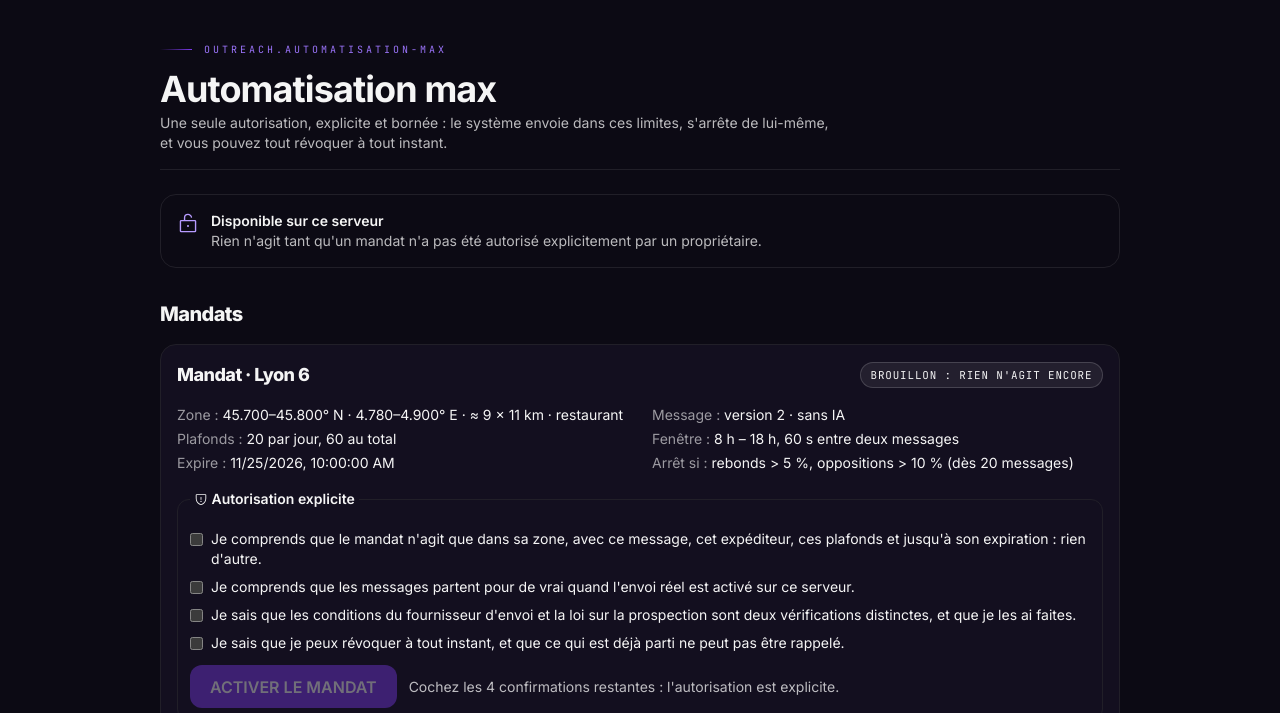
Test: the explicit authorisation › shows the server's refusal sentence
Step 1. Click the 1st checkbox → x=196, y=540, box [190, 533, 203, 546]
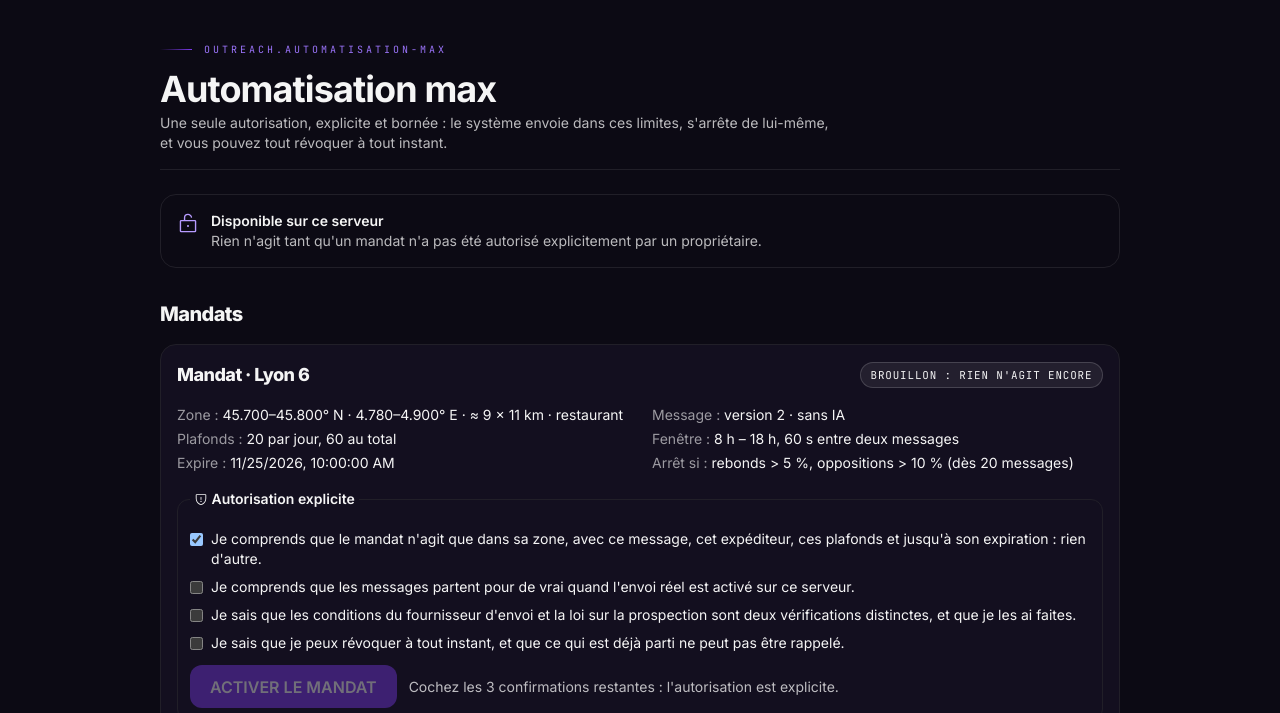
Step 2. Click the 2nd checkbox → x=196, y=588, box [190, 581, 203, 594]
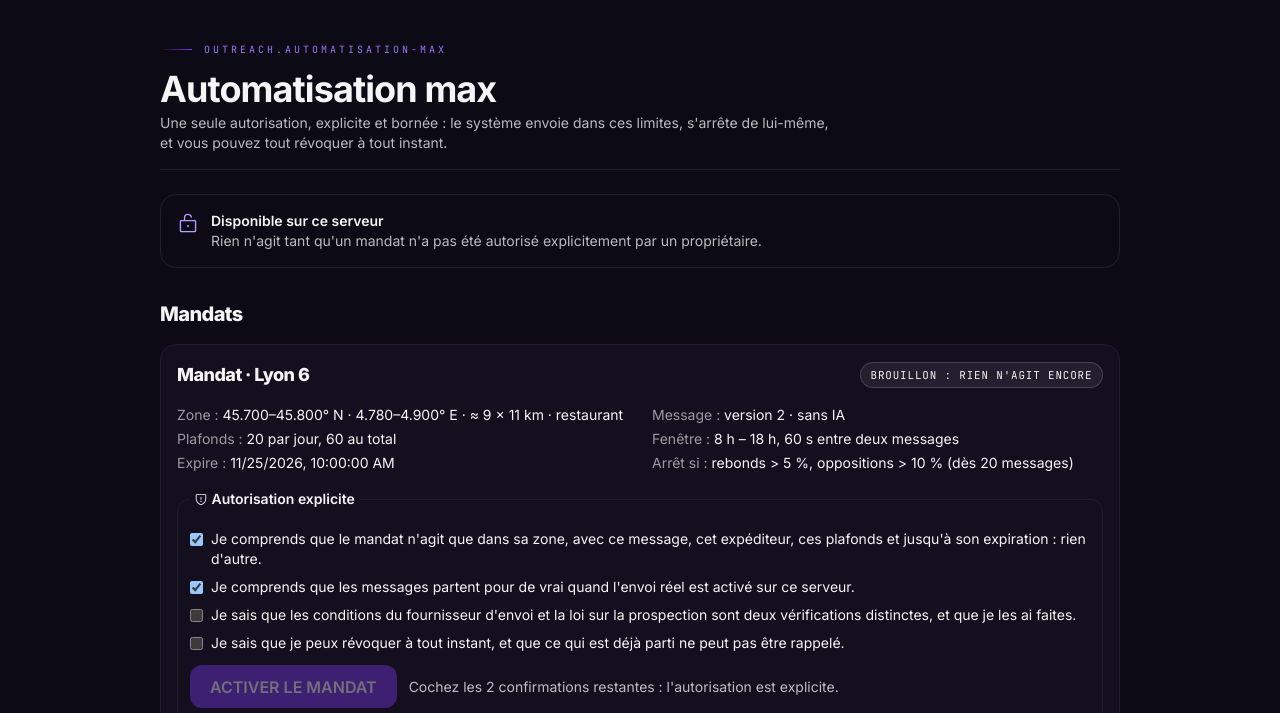
Step 3. Click the 3rd checkbox → x=196, y=616, box [190, 609, 203, 622]
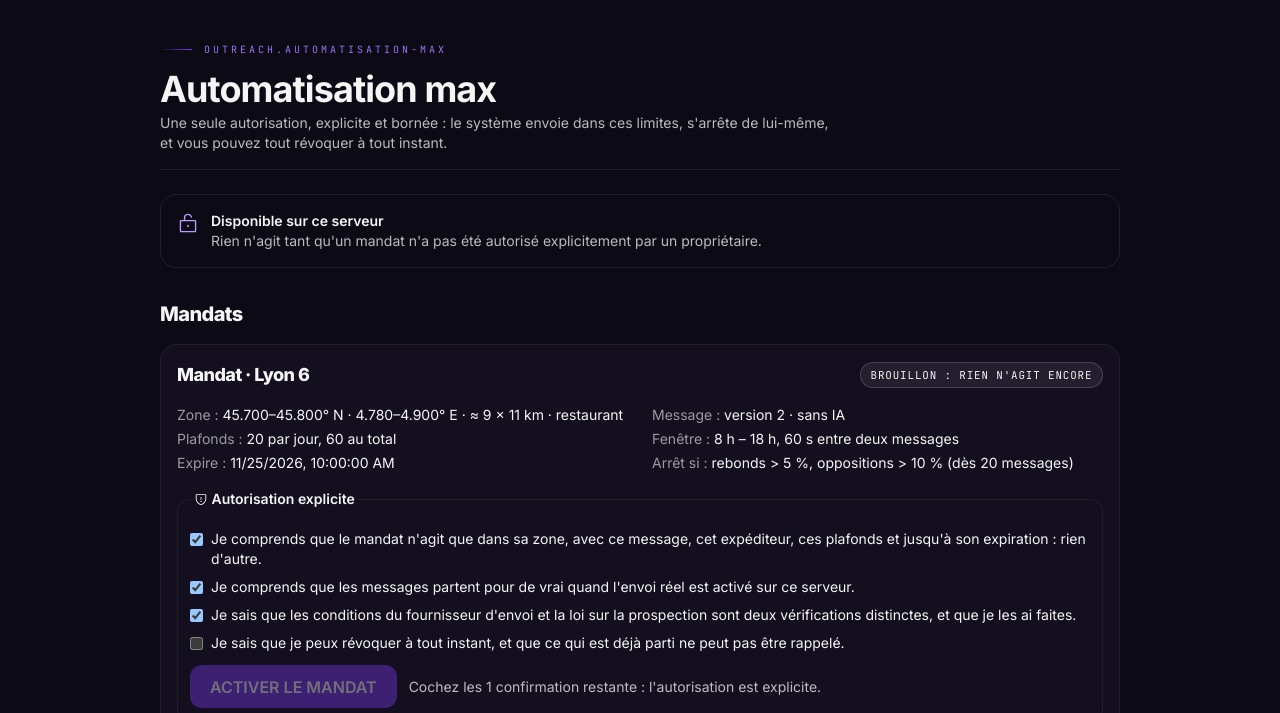
Step 4. Click the 4th checkbox → x=196, y=644, box [190, 637, 203, 650]
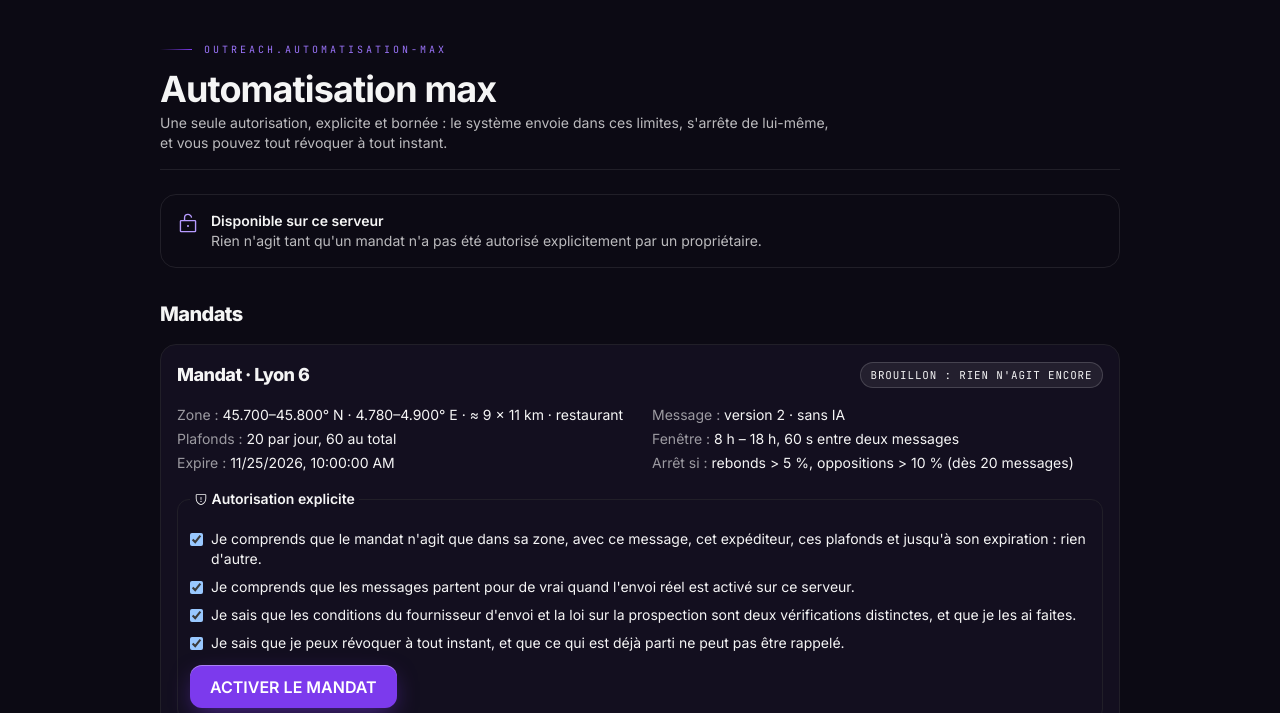
Step 5. Click the button "ACTIVER LE MANDAT" → x=293, y=687, box [190, 665, 397, 708]
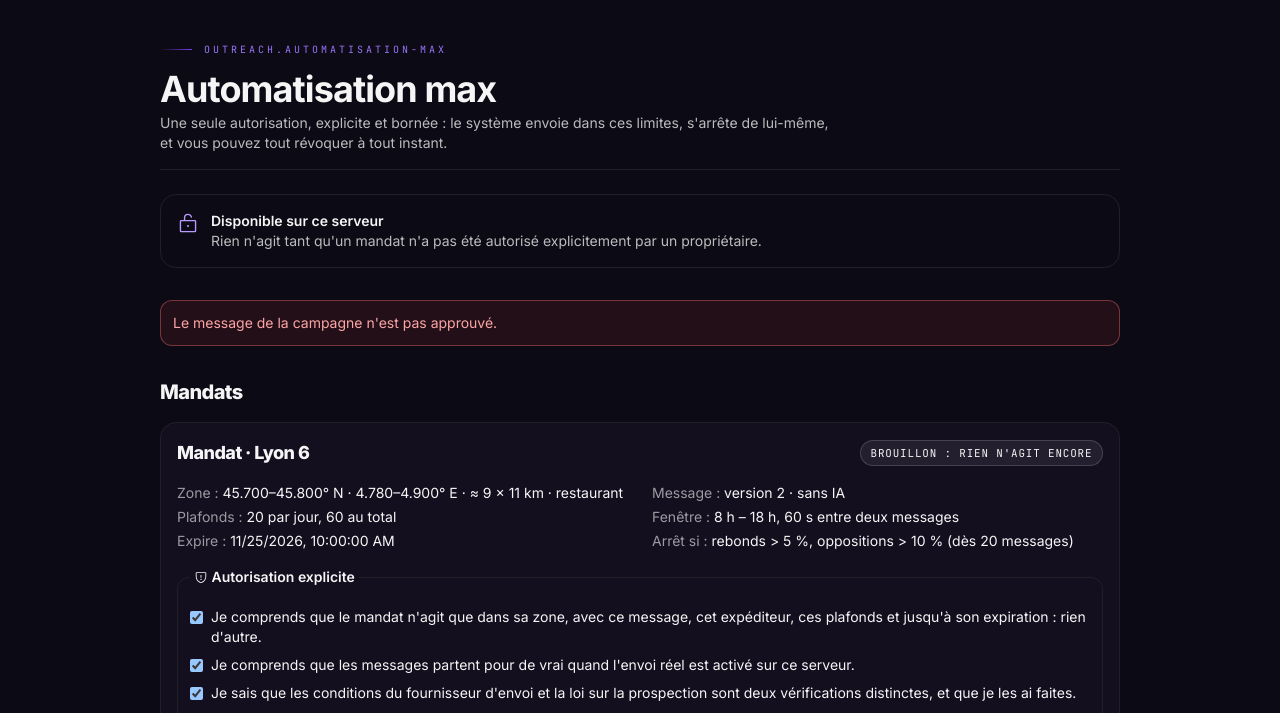
Check: the message "Le message de la campagne n'est pas approuvé." is shown, box [160, 300, 1120, 346]
